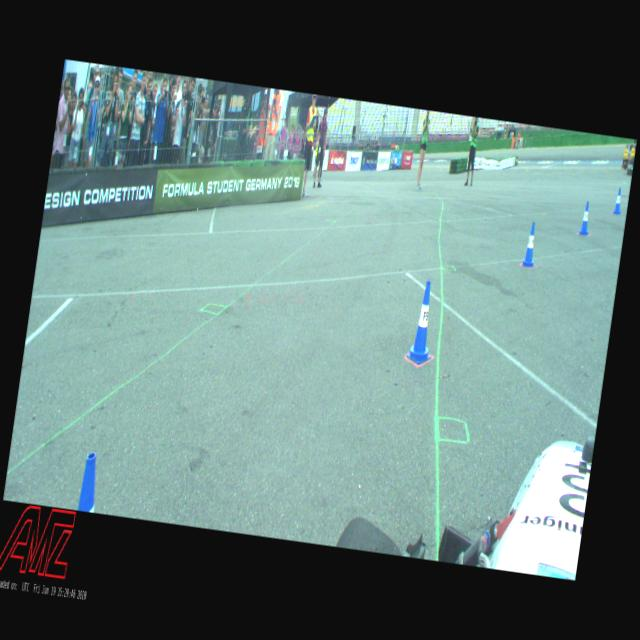blue_cone: (406, 279, 440, 366), (521, 221, 541, 267), (579, 202, 592, 236), (613, 188, 624, 215)
